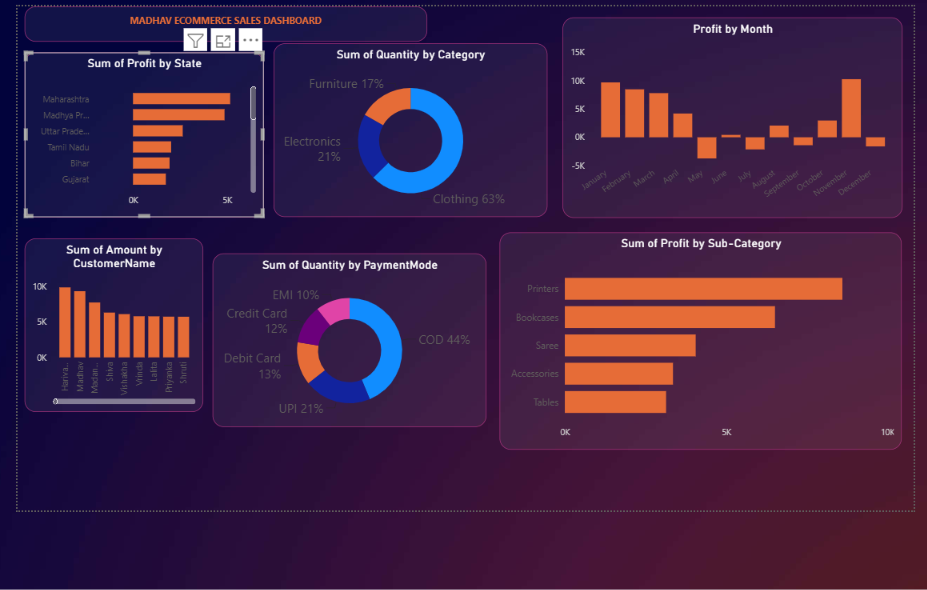

This screenshot's page, from the dashboard's own definition file:
{"tool":"powerbi","page":{"name":"Page 1","canvas":[1280,720],"ordinal":0},"visuals":[{"type":"textbox","box":[9.6,0,575,50.8],"z":0},{"type":"columnChart","title":"Profit by Month","fields":{"Y":["Sum(Details.Profit)"],"Category":["Orders.Order Date.Variation.Date Hierarchy.Month"]},"box":[778,15.1,485.5,286.1],"z":1000},{"type":"barChart","fields":{"Category":["Details.Sub-Category"],"Y":["Sum(Details.Profit)"]},"box":[688.9,322.5,574.7,310.6],"z":2000},{"type":"donutChart","fields":{"Category":["Details.Category"],"Y":["Sum(Details.Quantity)"]},"box":[366.4,53.5,391.1,248.4],"z":3000},{"type":"donutChart","fields":{"Y":["Sum(Details.Quantity)"],"Category":["Details.PaymentMode"]},"box":[278.6,352.7,391.1,248.4],"z":4000},{"type":"barChart","fields":{"Y":["Sum(Details.Profit)"],"Category":["Orders.State"]},"box":[9.6,65.9,341.7,236],"z":5000},{"type":"columnChart","fields":{"Category":["Orders.CustomerName"],"Y":["Sum(Details.Amount)"]},"box":[9.6,332.1,255.2,248.4],"z":6000}]}

Visuals, with their boxes on the page's 1280x720 design canvas (x1, y1, x2, y2). These are canvas units, not pixel positions in the 927x590 screenshot, which may show the page scaled, cropped or inside an application window:
textbox: x1=10, y1=0, x2=585, y2=51
"Profit by Month" columnChart: x1=778, y1=15, x2=1264, y2=301
barChart - Details.Sub-Category x Sum(Details.Profit): x1=689, y1=322, x2=1264, y2=633
donutChart - Details.Category x Sum(Details.Quantity): x1=366, y1=54, x2=758, y2=302
donutChart - Sum(Details.Quantity) x Details.PaymentMode: x1=279, y1=353, x2=670, y2=601
barChart - Sum(Details.Profit) x Orders.State: x1=10, y1=66, x2=351, y2=302
columnChart - Orders.CustomerName x Sum(Details.Amount): x1=10, y1=332, x2=265, y2=580
